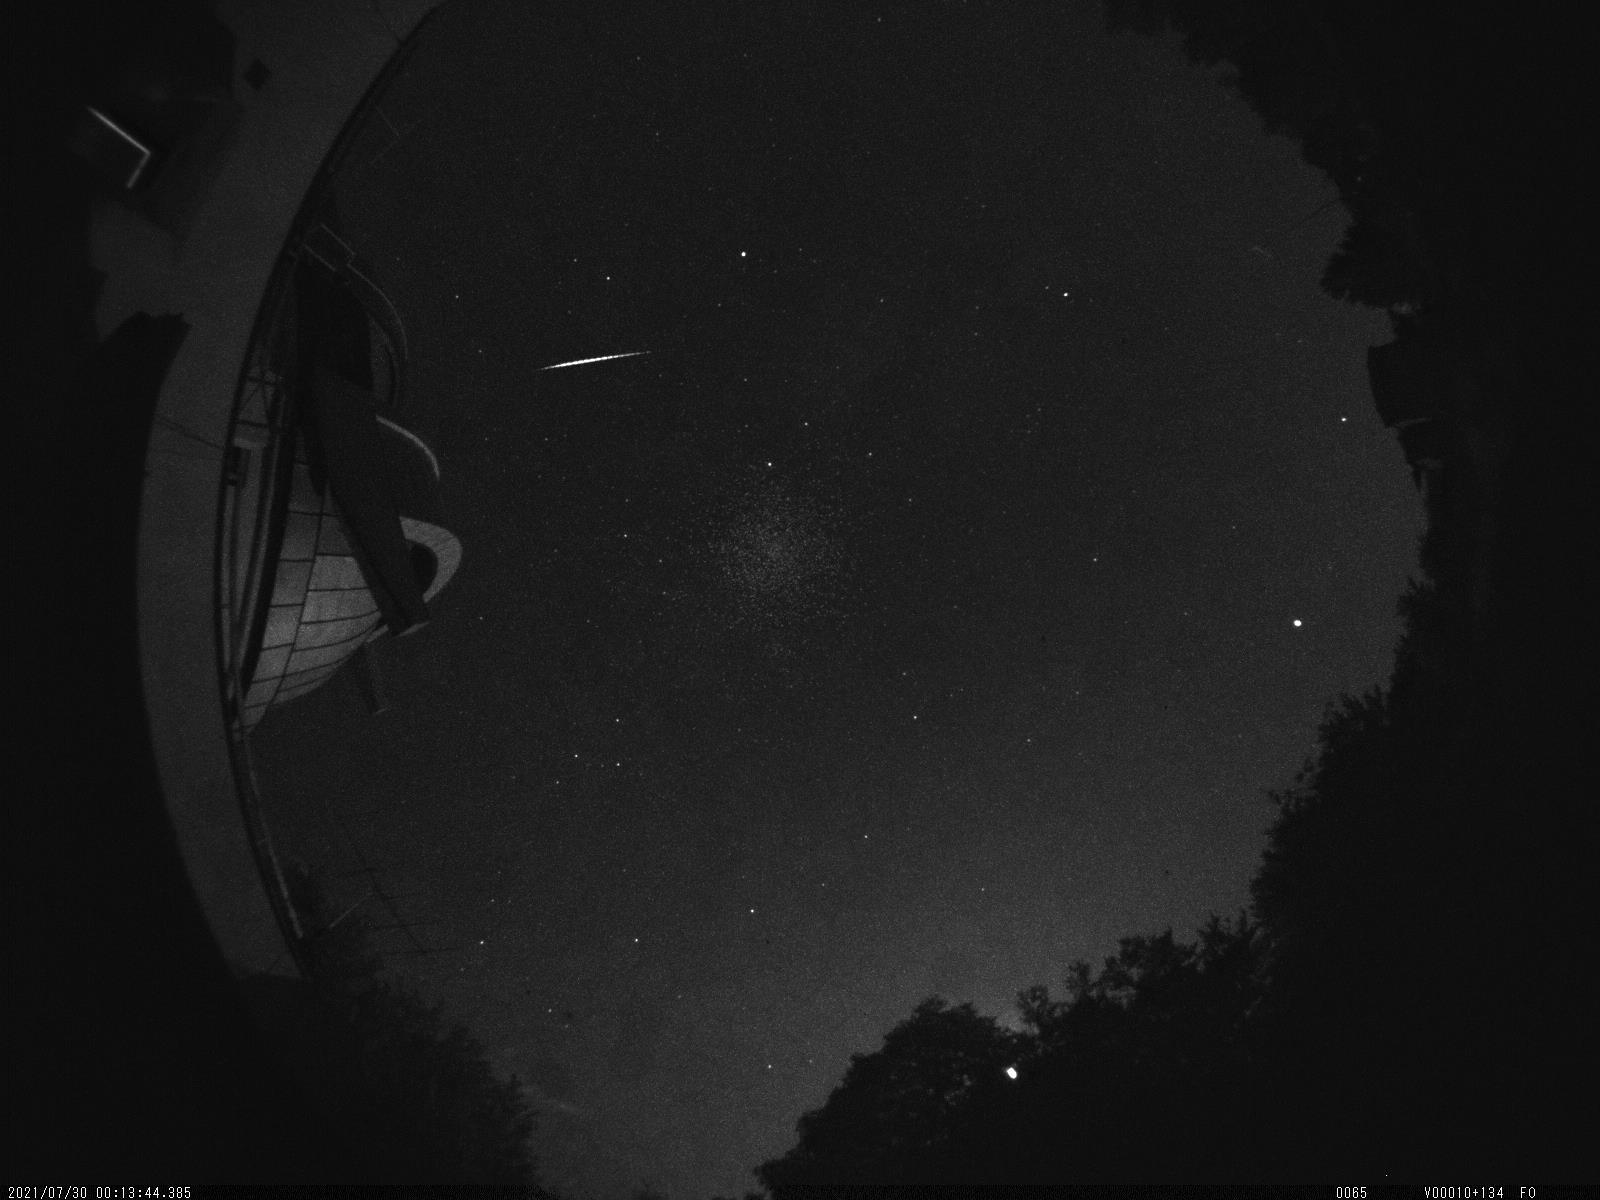Meteor: (527, 344, 660, 387)
